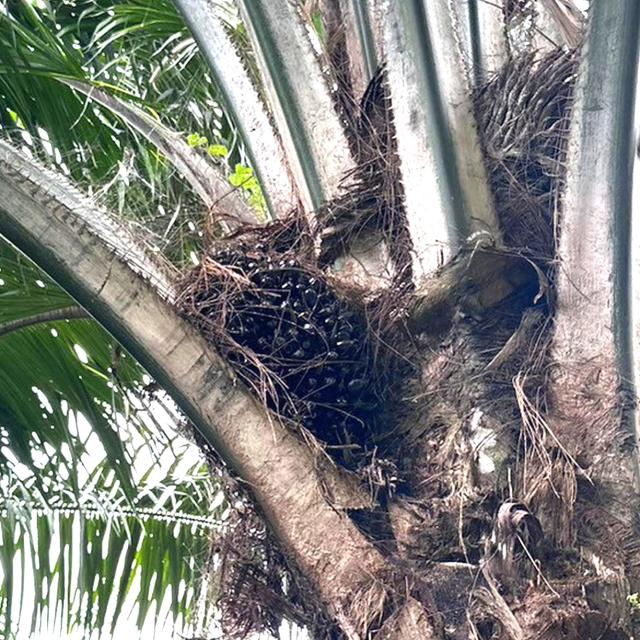unripe: (176, 240, 398, 429)
